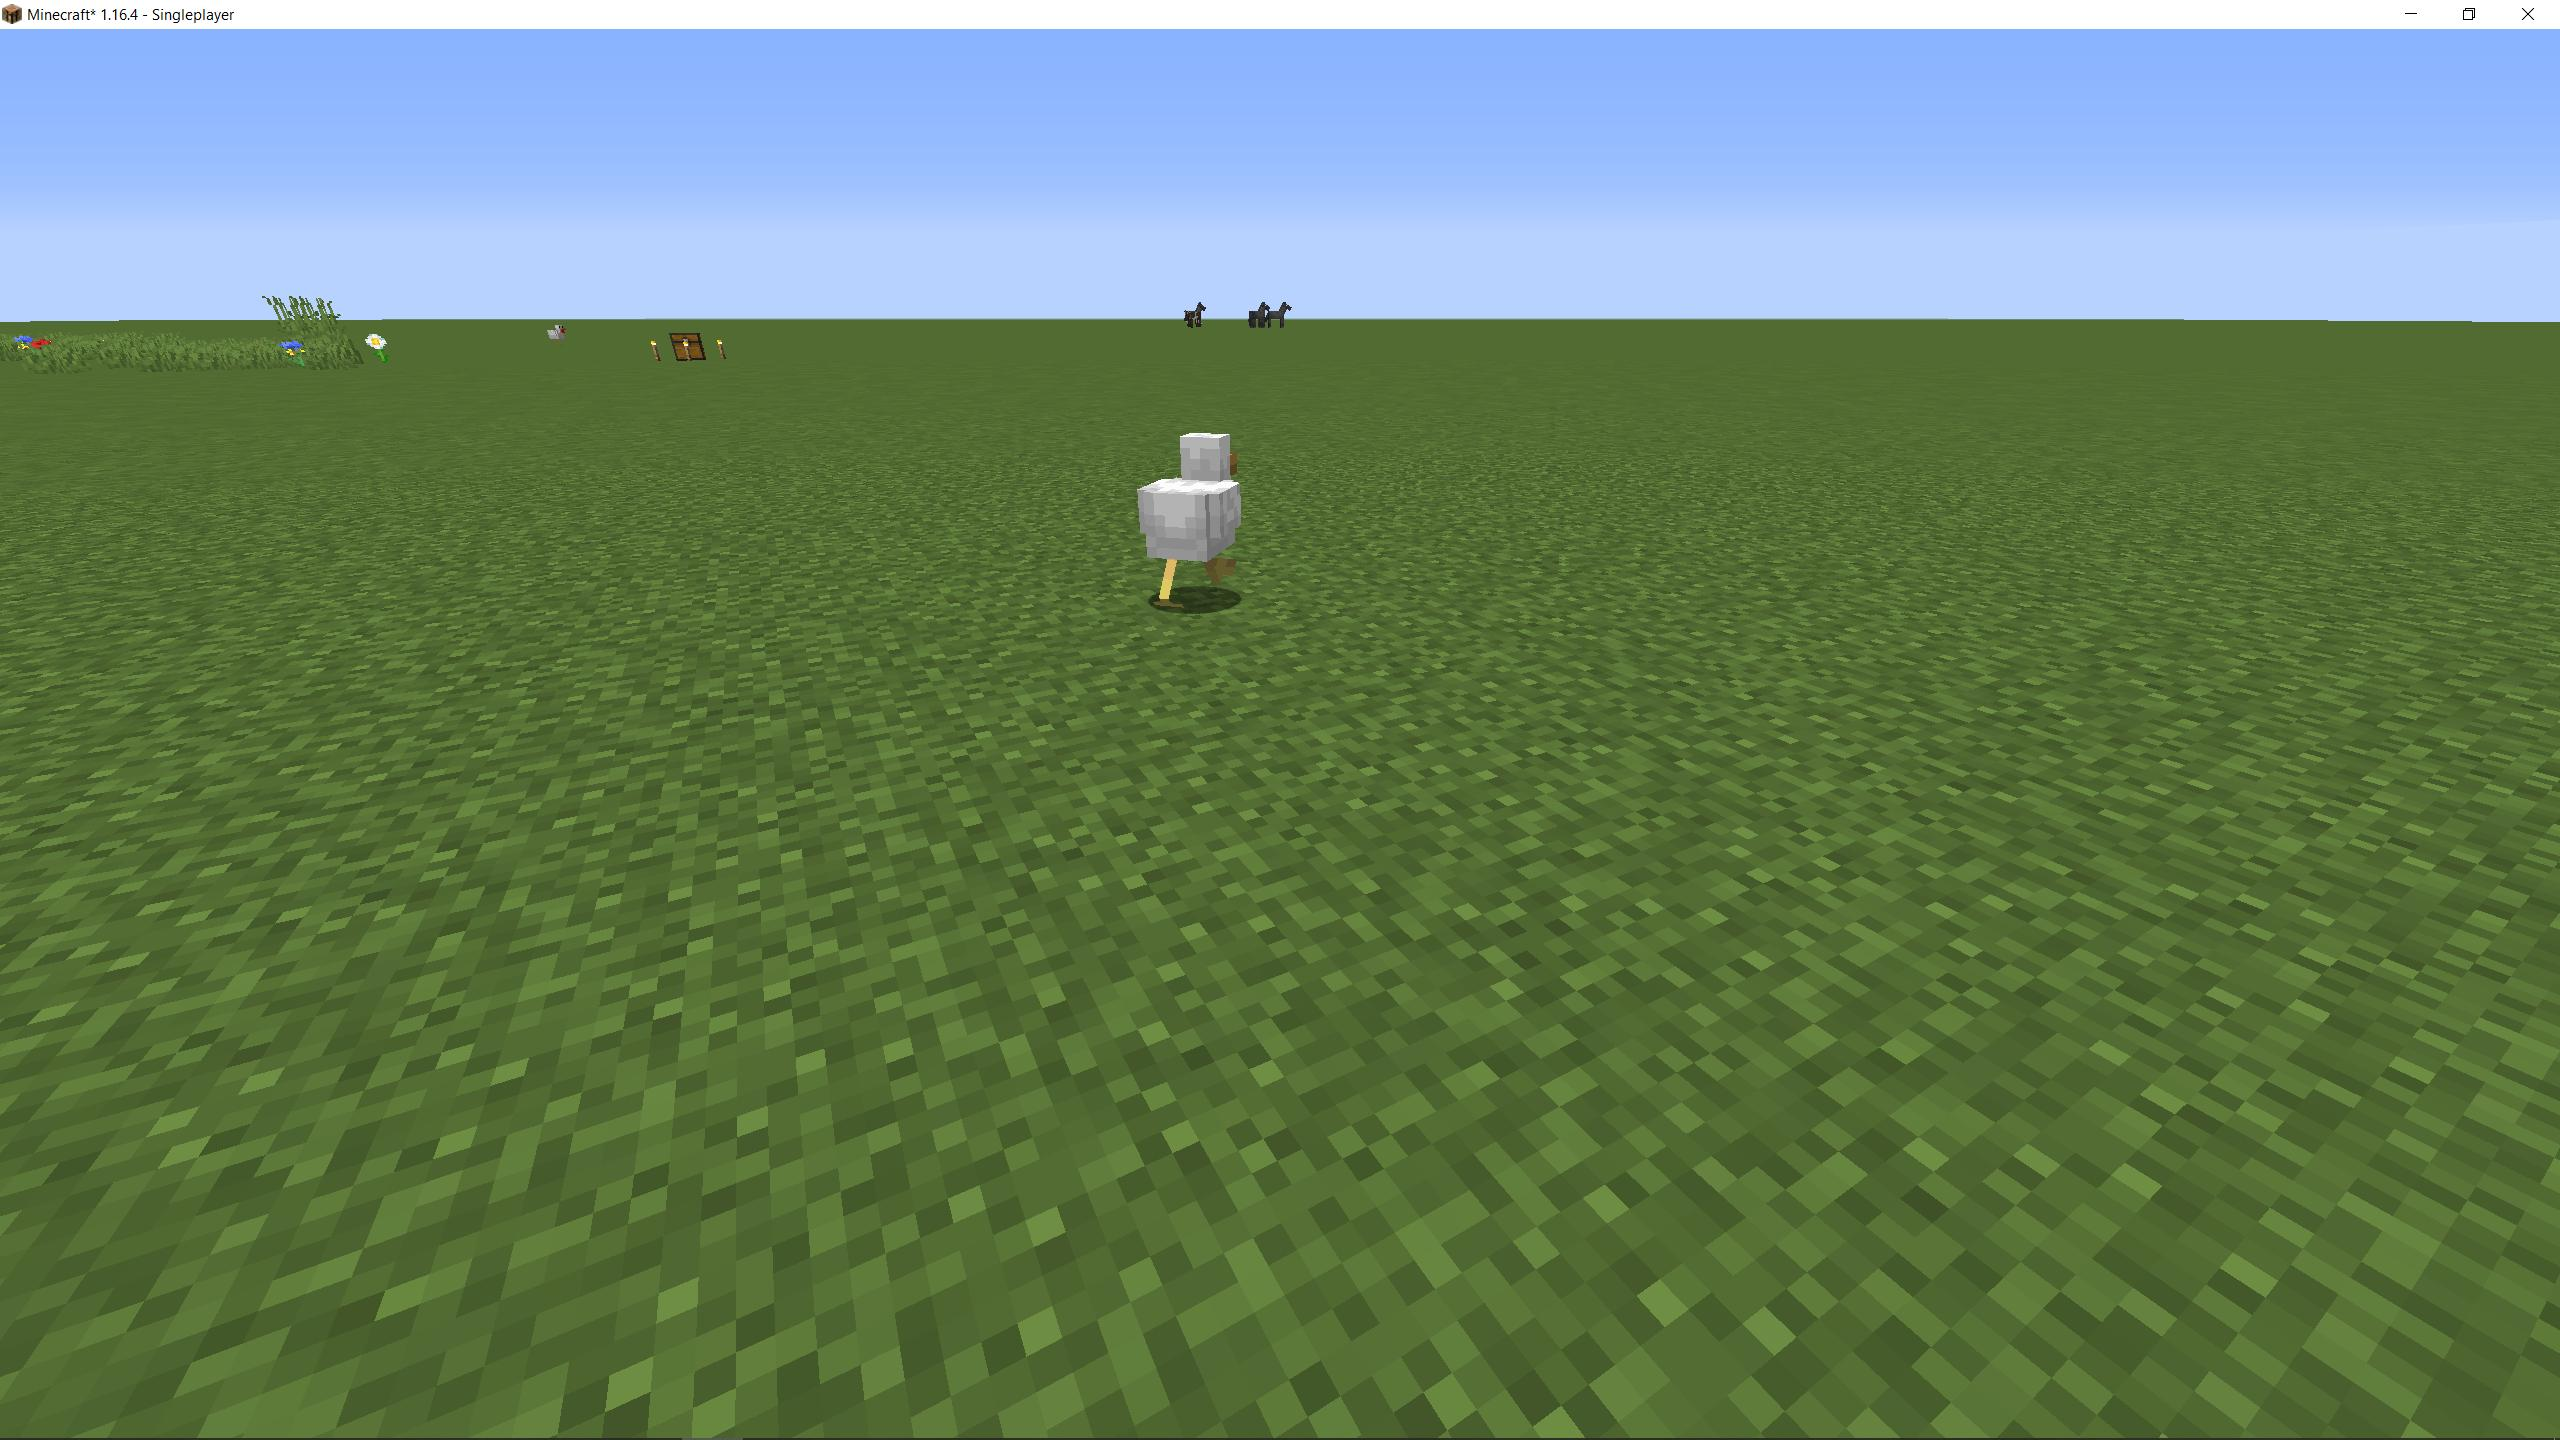chicken: (1131, 424, 1261, 612)
